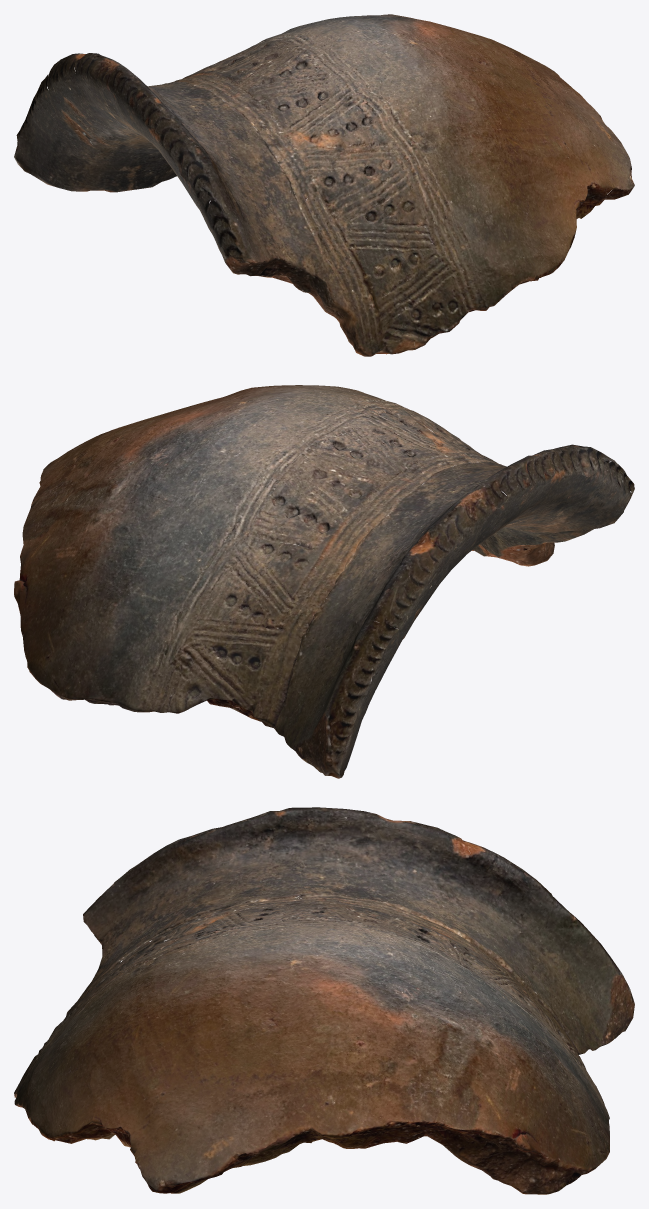
The model's file is piece1_10000_resHi.glb.
3 renders of one model, top to bottom at view 1: azimuth 30°, elevation 25°; view 2: azimuth 150°, elevation 25°; view 3: azimuth 270°, elevation 25°, orthographic. The views are drawn at different scales.
Bounding box in the file's own units: 0.1816 × 0.0806 × 0.2036.
Materials: 1 (1 with a texture image).
